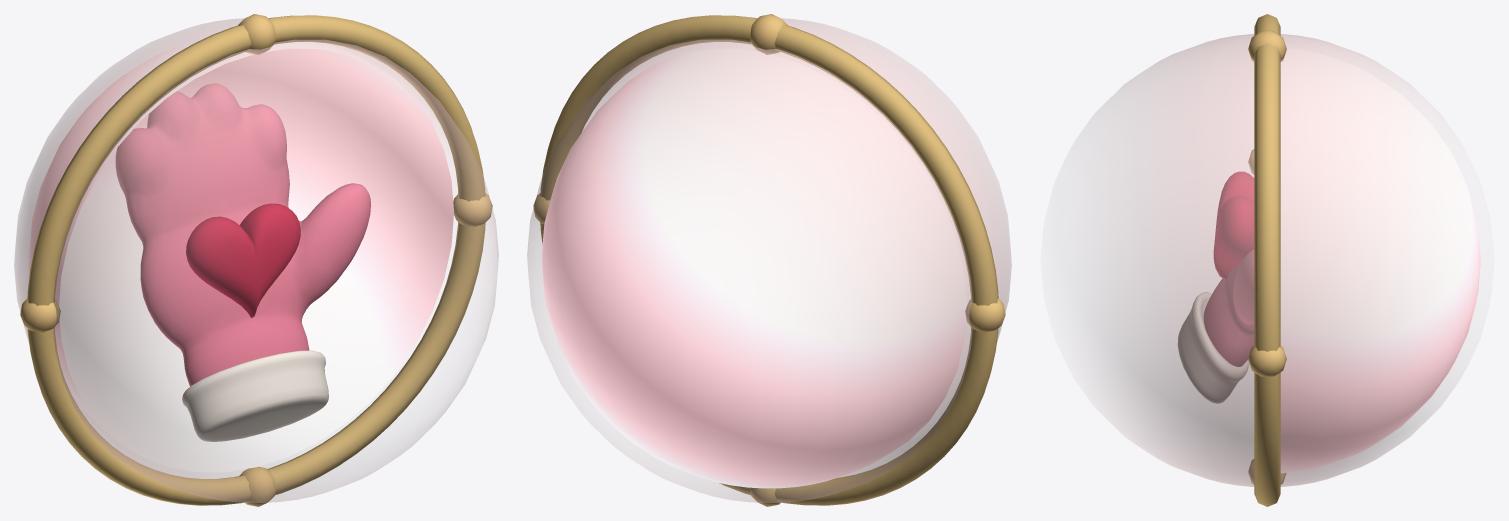
File: medallion-08.glb
The picture shows the model from 3 angles, left to right: view 1: azimuth 30°, elevation 25°; view 2: azimuth 150°, elevation 25°; view 3: azimuth 270°, elevation 25°; orthographic projection. The views are drawn at different scales.
Parts seen in each view (by area): view 1: Medallion08; view 2: Medallion08; view 3: Medallion08.
Part boxes in pixels (x1,y1,x2,y2): Medallion08: (14,14,498,506); Medallion08: (527,14,1011,506); Medallion08: (1089,14,1480,506).
Bounding box in the file's own units: 0.4981 × 0.5 × 0.4494.
